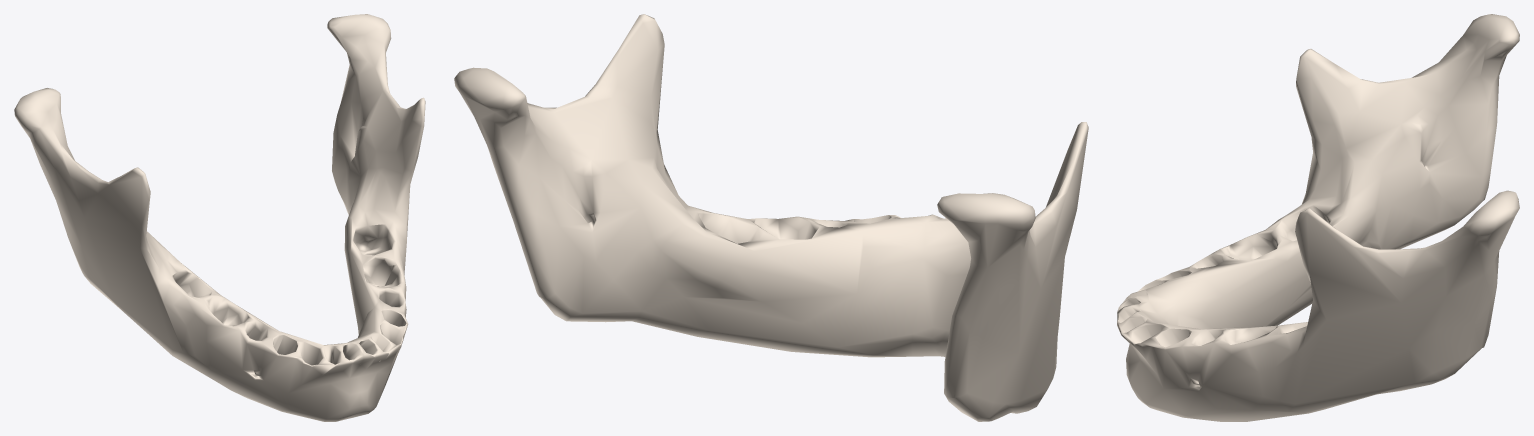
The model's file is mandible.glb.
3 renders of one model, left to right at view 1: azimuth 30°, elevation 25°; view 2: azimuth 150°, elevation 25°; view 3: azimuth 270°, elevation 25°, orthographic. The views are drawn at different scales.
Parts seen in each view (by area): view 1: Mandible bone; view 2: Mandible bone; view 3: Mandible bone.
Part boxes in pixels (x1,y1,x2,y2): Mandible bone: [14, 14, 425, 421]; Mandible bone: [454, 14, 1088, 421]; Mandible bone: [1117, 14, 1519, 421].
Bounding box in the file's own units: 0.1147 × 0.075 × 0.0943.
